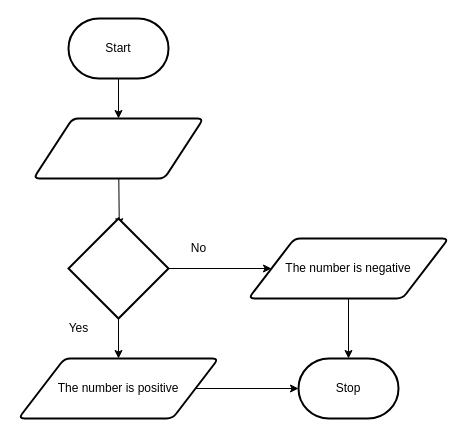
This 466x436 diagram has some shape labels left out. Each missing label, with the box of its shape:
if (integer > 0): (67, 217, 169, 319)
Input random integer: (32, 117, 204, 179)
